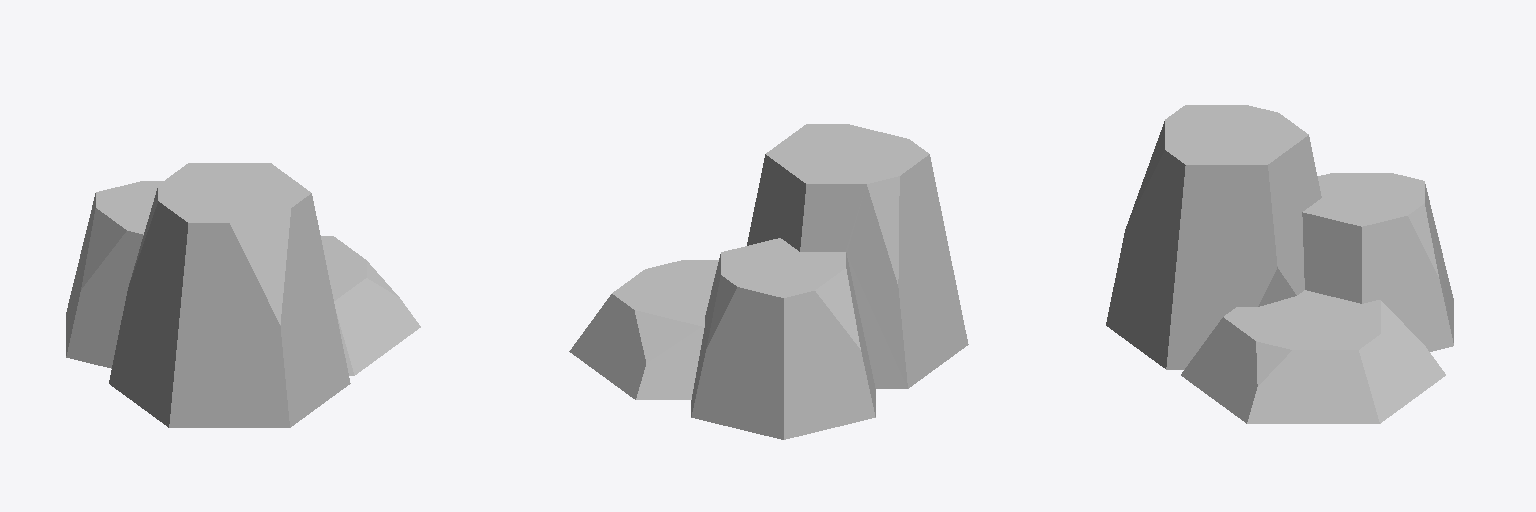
Rendered from Rock.obj.
3 views of the same model, side by side, from view 1: azimuth 30°, elevation 25°; view 2: azimuth 150°, elevation 25°; view 3: azimuth 270°, elevation 25° (orthographic).
Parts seen in each view (by area): view 1: Rock; view 2: Rock; view 3: Rock.
Boxes of the visible parts, <box> form: Rock: <box>66,163,420,427</box>; Rock: <box>569,124,968,439</box>; Rock: <box>1106,105,1453,423</box>.
Bounding box in the file's own units: 32.65 × 20 × 33.12.